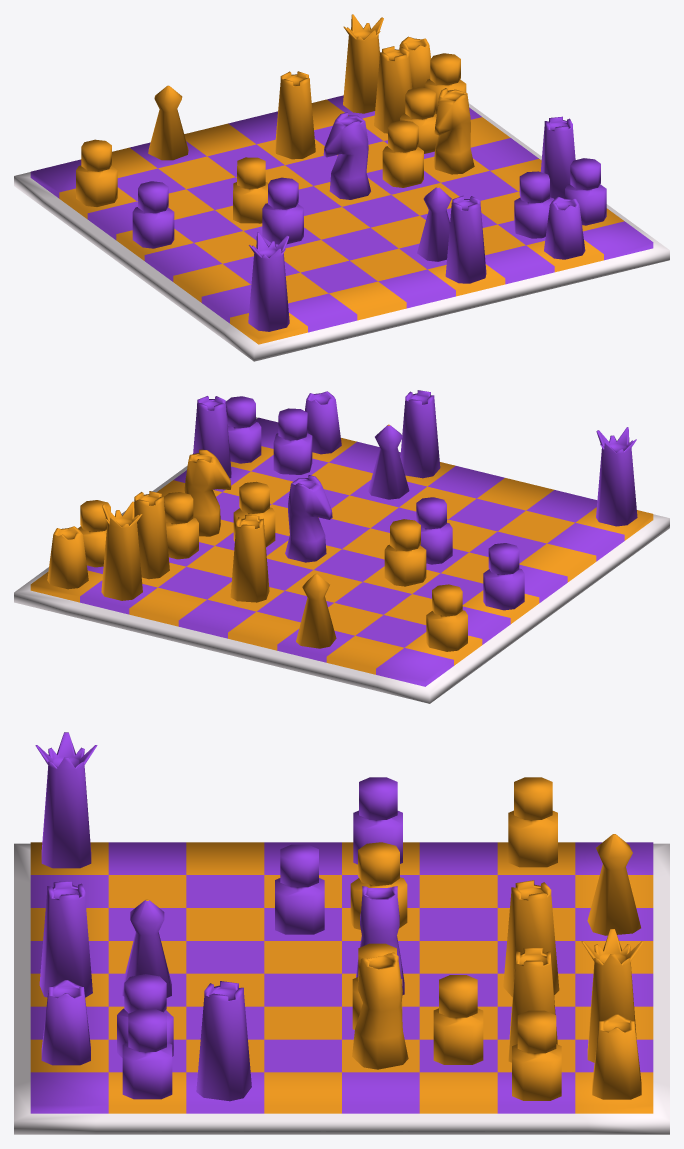
The model's file is Chess.fbx.
3 renders of one model, top to bottom at view 1: azimuth 30°, elevation 25°; view 2: azimuth 150°, elevation 25°; view 3: azimuth 270°, elevation 25°, orthographic. The views are drawn at different scales.
Parts seen in each view (by area): view 1: Cube, Cube.001; view 2: Cube, Cube.001; view 3: Cube, Cube.001.
Part boxes in pixels (bbox=[...]): Cube: bbox=[14, 95, 669, 361]; Cube.001: bbox=[76, 14, 606, 331]; Cube: bbox=[14, 417, 669, 703]; Cube.001: bbox=[47, 390, 637, 651]; Cube: bbox=[14, 842, 669, 1134]; Cube.001: bbox=[35, 732, 643, 1101].
Size of the model in its own units: 24.96 by 5.65 by 24.96.
